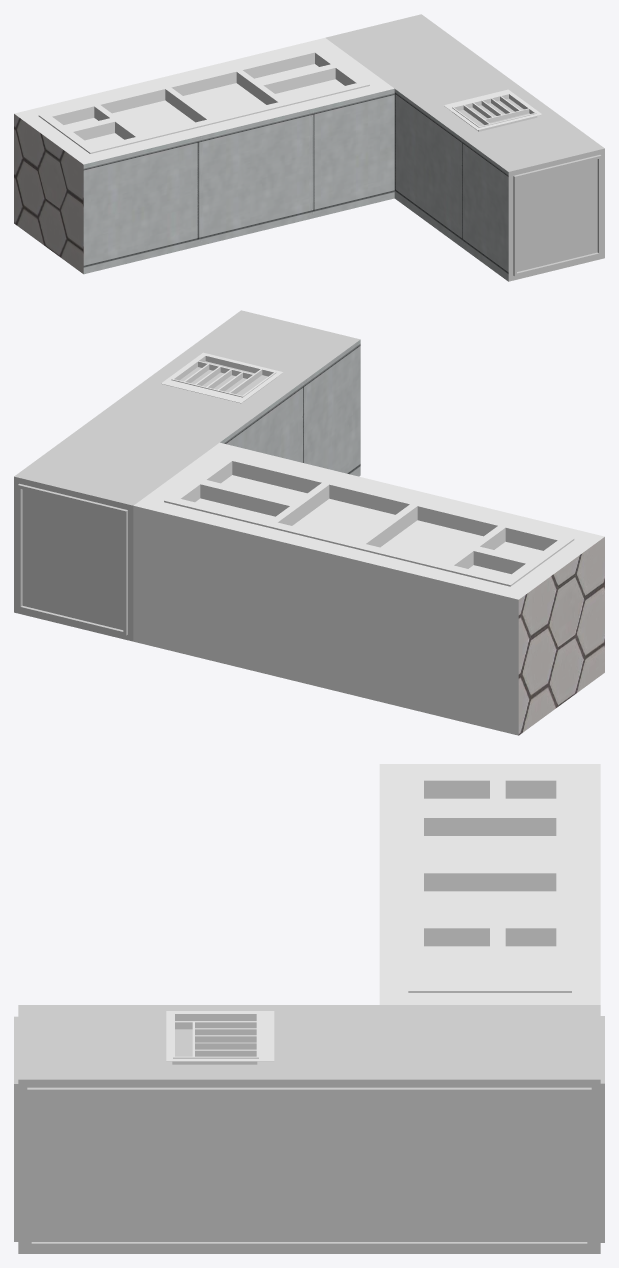
Rendered from BalcaoRefeitorio.dae.
3 renders of one model, top to bottom at view 1: azimuth 30°, elevation 25°; view 2: azimuth 150°, elevation 25°; view 3: azimuth 270°, elevation 25°, orthographic. The views are drawn at different scales.
Visible parts, largest first — view 1: instance_1 (×10), group_1 (×4), instance_3 (×2); view 2: instance_1 (×9), group_1 (×4), instance_3 (×2); view 3: group_1 (×5), instance_1 (×8), instance_3 (×2).
Boxes of the visible parts, left/top/right/bottom form: instance_1 (×10): left=14, top=38, right=394, bottom=274; group_1 (×4): left=325, top=14, right=604, bottom=281; instance_3 (×2): left=444, top=89, right=542, bottom=130; instance_1 (×9): left=133, top=442, right=604, bottom=735; group_1 (×4): left=14, top=310, right=360, bottom=641; instance_3 (×2): left=161, top=352, right=283, bottom=403; group_1 (×5): left=14, top=1005, right=604, bottom=1253; instance_1 (×8): left=379, top=764, right=600, bottom=1004; instance_3 (×2): left=166, top=1011, right=274, bottom=1061.
Bounding box in the file's own units: 134 × 105 × 35.63.
4 materials, 2 textured.
